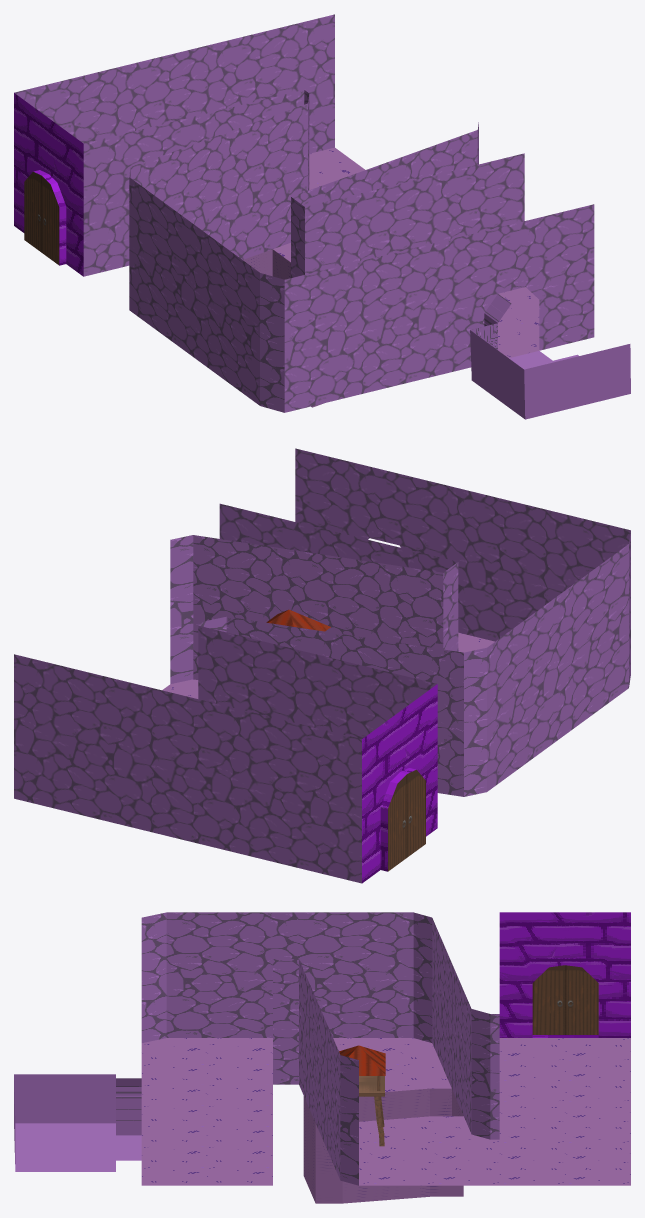
Rendered from NEWcave2.glb.
3 views of the same model, one above another, from view 1: azimuth 30°, elevation 25°; view 2: azimuth 150°, elevation 25°; view 3: azimuth 270°, elevation 25° (orthographic). The views are drawn at different scales.
Visible parts, largest first — view 1: CAVEwalls, FortressWall, FLOOR, Door; view 2: CAVEwalls, FortressWall, Door, FLOOR, WatchTower; view 3: CAVEwalls, FLOOR, FortressWall, Door, WatchTower.
Boxes of the visible parts, bbox=[...] form: CAVEwalls: bbox=[14, 14, 630, 419]; FortressWall: bbox=[14, 93, 83, 276]; FLOOR: bbox=[243, 147, 539, 407]; Door: bbox=[24, 171, 59, 265]; CAVEwalls: bbox=[14, 448, 630, 883]; FortressWall: bbox=[362, 684, 437, 883]; Door: bbox=[388, 770, 425, 871]; FLOOR: bbox=[162, 632, 494, 698]; WatchTower: bbox=[266, 609, 330, 631]; CAVEwalls: bbox=[14, 912, 499, 1185]; FLOOR: bbox=[141, 1038, 630, 1203]; FortressWall: bbox=[499, 912, 630, 1037]; Door: bbox=[532, 965, 598, 1034]; WatchTower: bbox=[339, 1045, 385, 1146].
Size of the model in its own units: 30.63 by 19.51 by 52.94.
5 materials, 5 textured.
